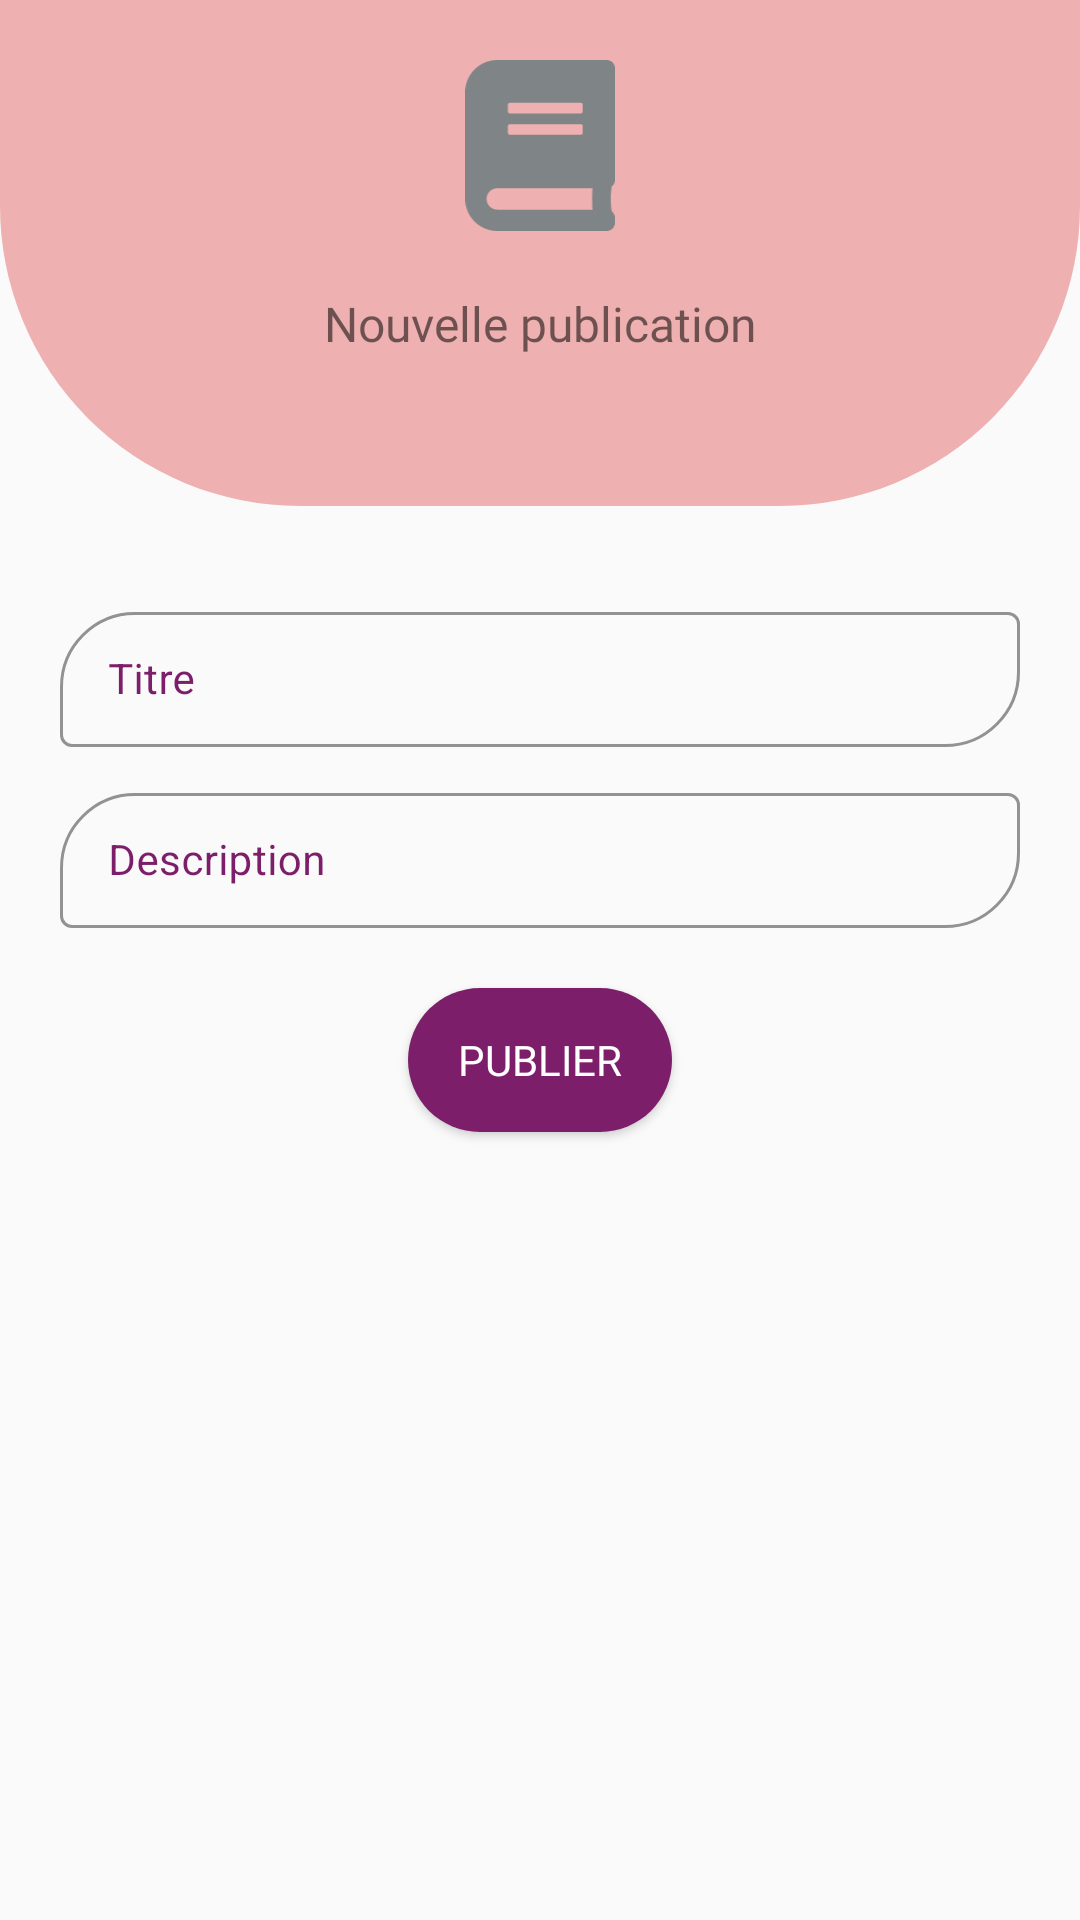

Icons on this 1080 × 1920 Android screen, each with its box as (x1, y1, x2, y2):
fas book: (465, 60, 615, 231)
